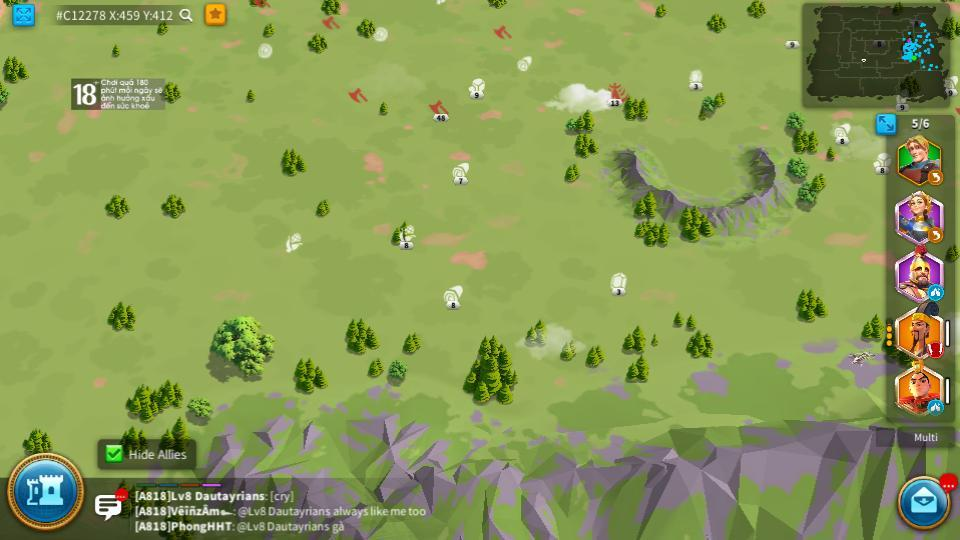march_attacking: (929, 350, 941, 357)
march_idle: (927, 401, 944, 413), (929, 284, 942, 297)
march_returning: (927, 170, 944, 185), (928, 229, 942, 242)
